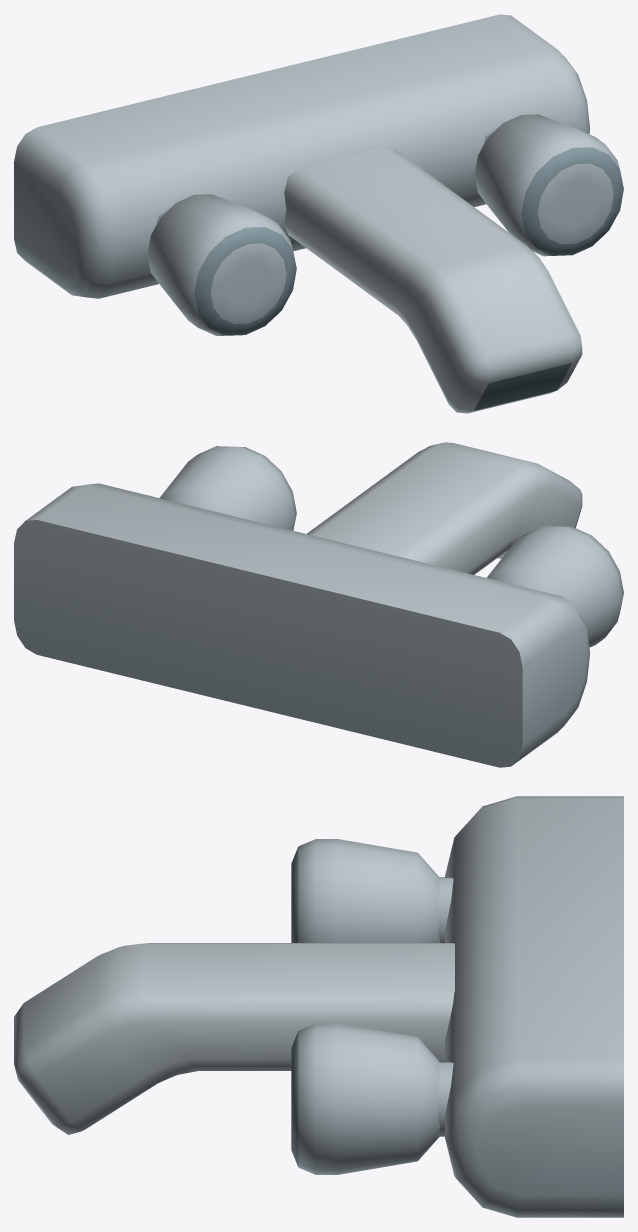
The model's file is Mixer_10.glb.
3 views of the same model, one above another, from view 1: azimuth 30°, elevation 25°; view 2: azimuth 150°, elevation 25°; view 3: azimuth 270°, elevation 25° (orthographic). The views are drawn at different scales.
Visible parts, largest first — view 1: Mixer_10; view 2: Mixer_10; view 3: Mixer_10.
Part boxes in pixels (box(x1,y1,x2,y2)): Mixer_10: box(14, 14, 623, 413); Mixer_10: box(14, 442, 623, 767); Mixer_10: box(14, 796, 623, 1217).
Bounding box in the file's own units: 0.3589 × 0.1054 × 0.3225.
1 material, 1 textured.
